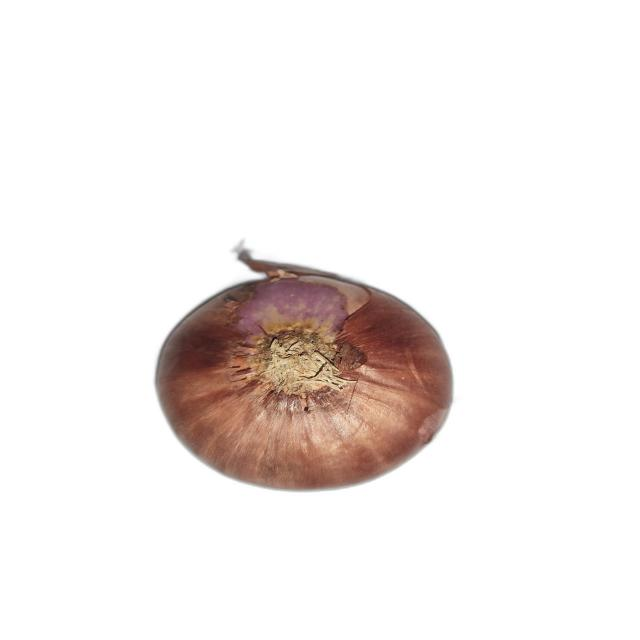onion: (153, 242, 455, 492)
